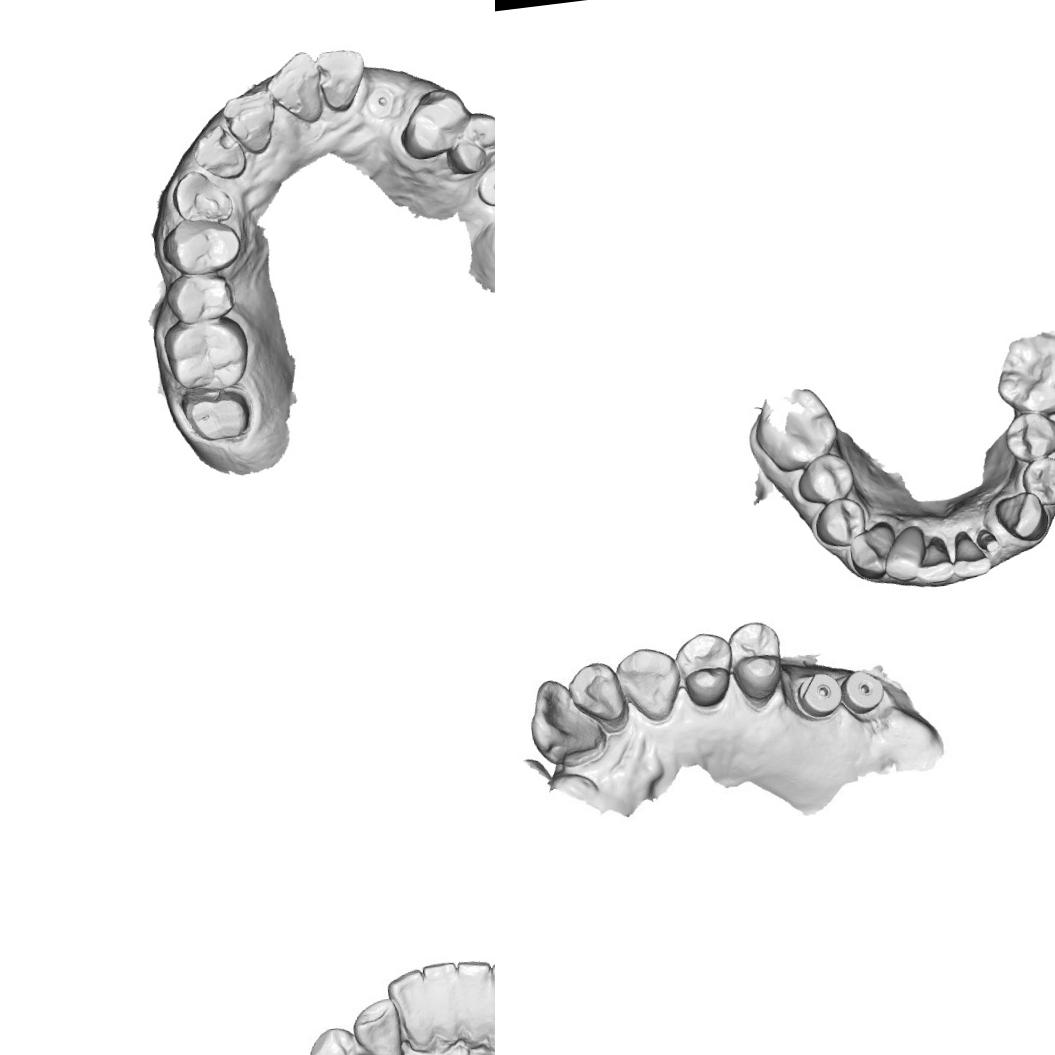abutment: (974, 527, 1002, 556)
canine: (615, 642, 685, 728), (167, 164, 233, 229), (993, 487, 1051, 545), (846, 520, 899, 582), (351, 1000, 409, 1055)
crown: (176, 380, 260, 450)
implant: (836, 663, 891, 719), (793, 670, 844, 720), (364, 77, 410, 123), (471, 163, 495, 211)
incisor: (522, 671, 606, 766), (564, 656, 632, 735), (260, 48, 326, 128), (386, 967, 442, 1052), (218, 87, 282, 158), (424, 960, 470, 1054), (312, 45, 370, 116), (189, 118, 250, 185), (456, 956, 495, 1044), (880, 524, 929, 584), (914, 541, 955, 584), (949, 546, 993, 582)
molar: (748, 384, 842, 478), (159, 312, 256, 398), (990, 328, 1055, 420)
premolar: (393, 83, 474, 163), (156, 212, 244, 280), (729, 620, 786, 704), (162, 266, 237, 328), (679, 632, 738, 709), (441, 108, 495, 177), (794, 451, 857, 508), (814, 494, 869, 552), (1001, 407, 1055, 466), (1017, 453, 1055, 508), (304, 1024, 365, 1055)
